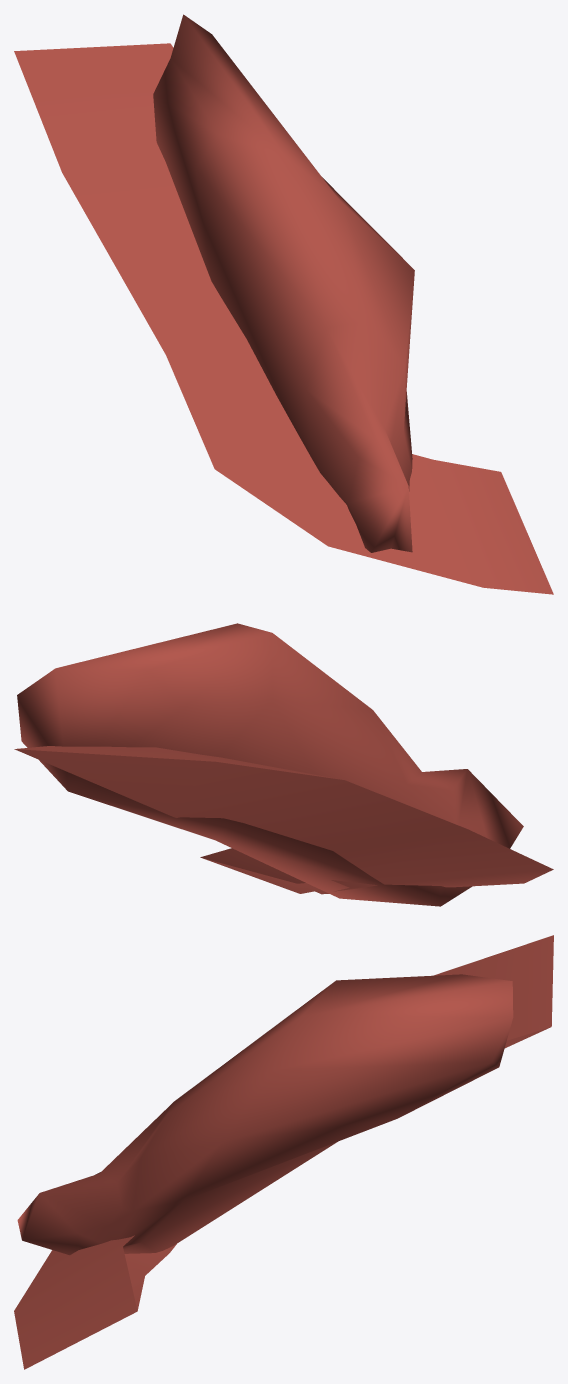
Rendered from fx_char_gib_chunk_meat02.glb.
The picture shows the model from 3 angles, top to bottom: view 1: azimuth 30°, elevation 25°; view 2: azimuth 150°, elevation 25°; view 3: azimuth 270°, elevation 25°; orthographic projection. The views are drawn at different scales.
Parts seen in each view (by area): view 1: fx_char_gib_chunk_meat02; view 2: fx_char_gib_chunk_meat02; view 3: fx_char_gib_chunk_meat02.
Part boxes in pixels (x1=…): fx_char_gib_chunk_meat02: x1=14, y1=14, x2=553, y2=594; fx_char_gib_chunk_meat02: x1=14, y1=623, x2=553, y2=906; fx_char_gib_chunk_meat02: x1=14, y1=935, x2=553, y2=1369.
Size of the model in its own units: 4 by 5.48 by 7.68.
